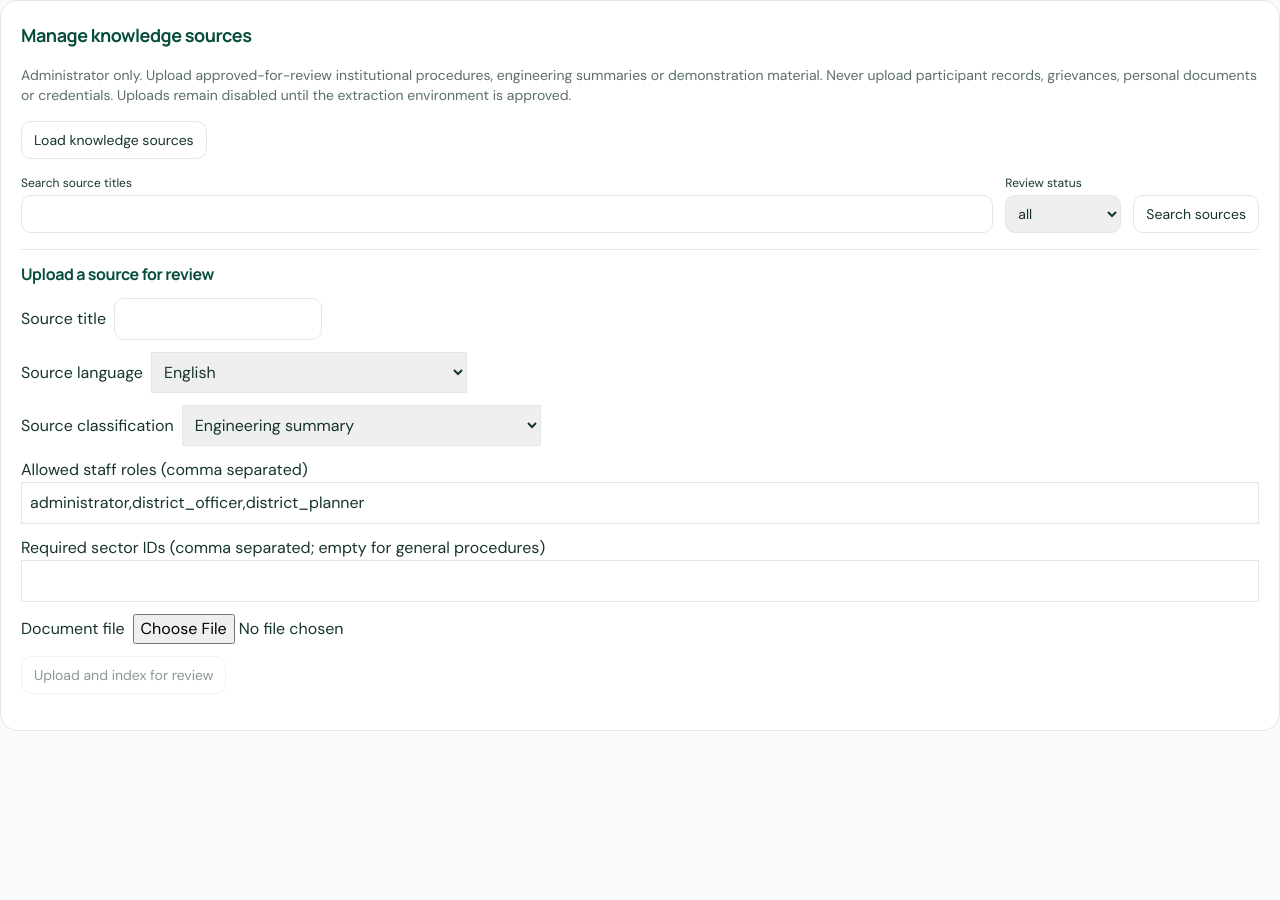
Scenario: searches source versions and recovers a failed index while uploads stay disabled
In the field labelled "Search source titles": {"x": 507, "y": 214} [21,195,993,233], type "Pump %"
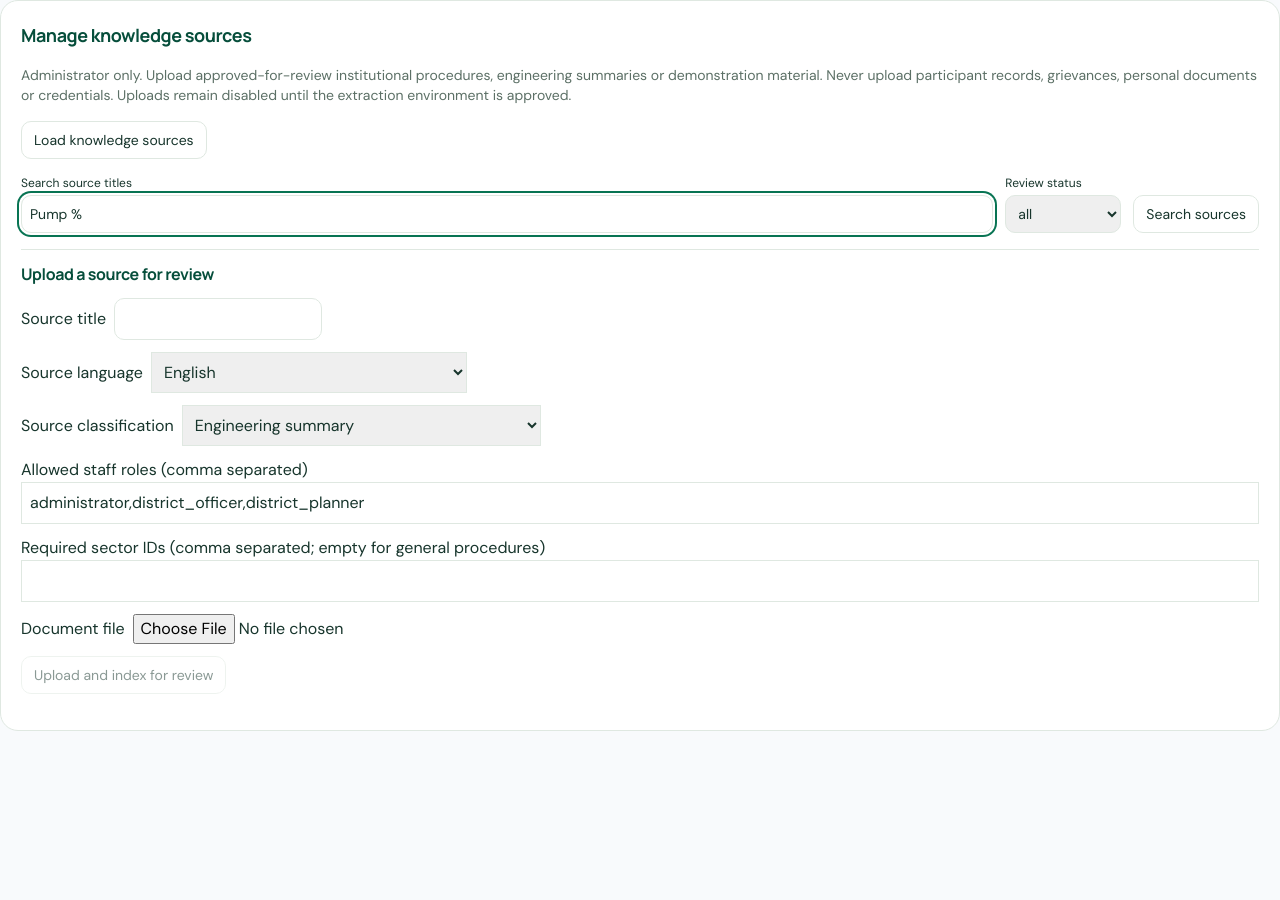
Select "pending" in the dropdown labelled "Review status": {"x": 1063, "y": 214} [1005,195,1121,233]
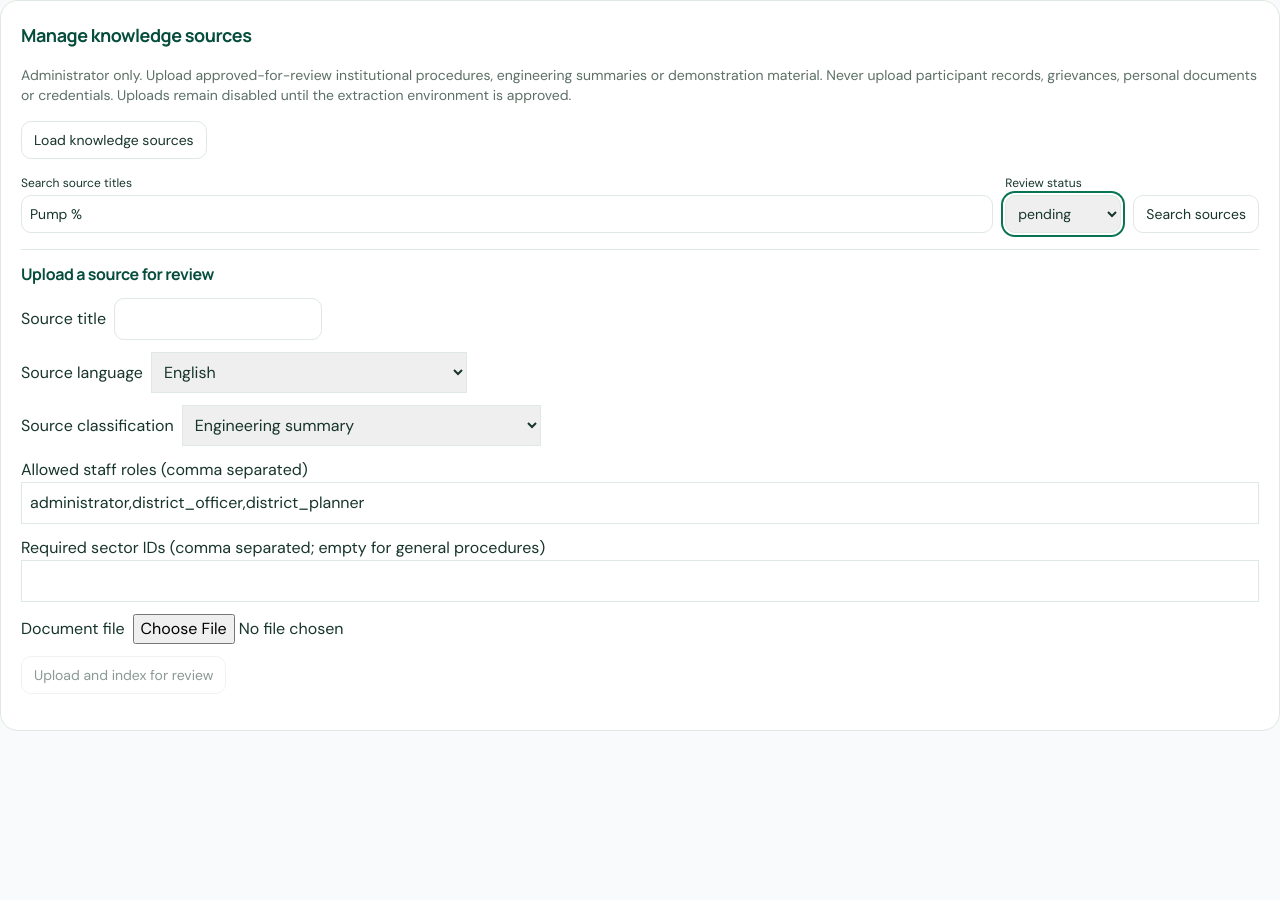
Click the button "Search sources": {"x": 1196, "y": 214} [1133,195,1259,233]
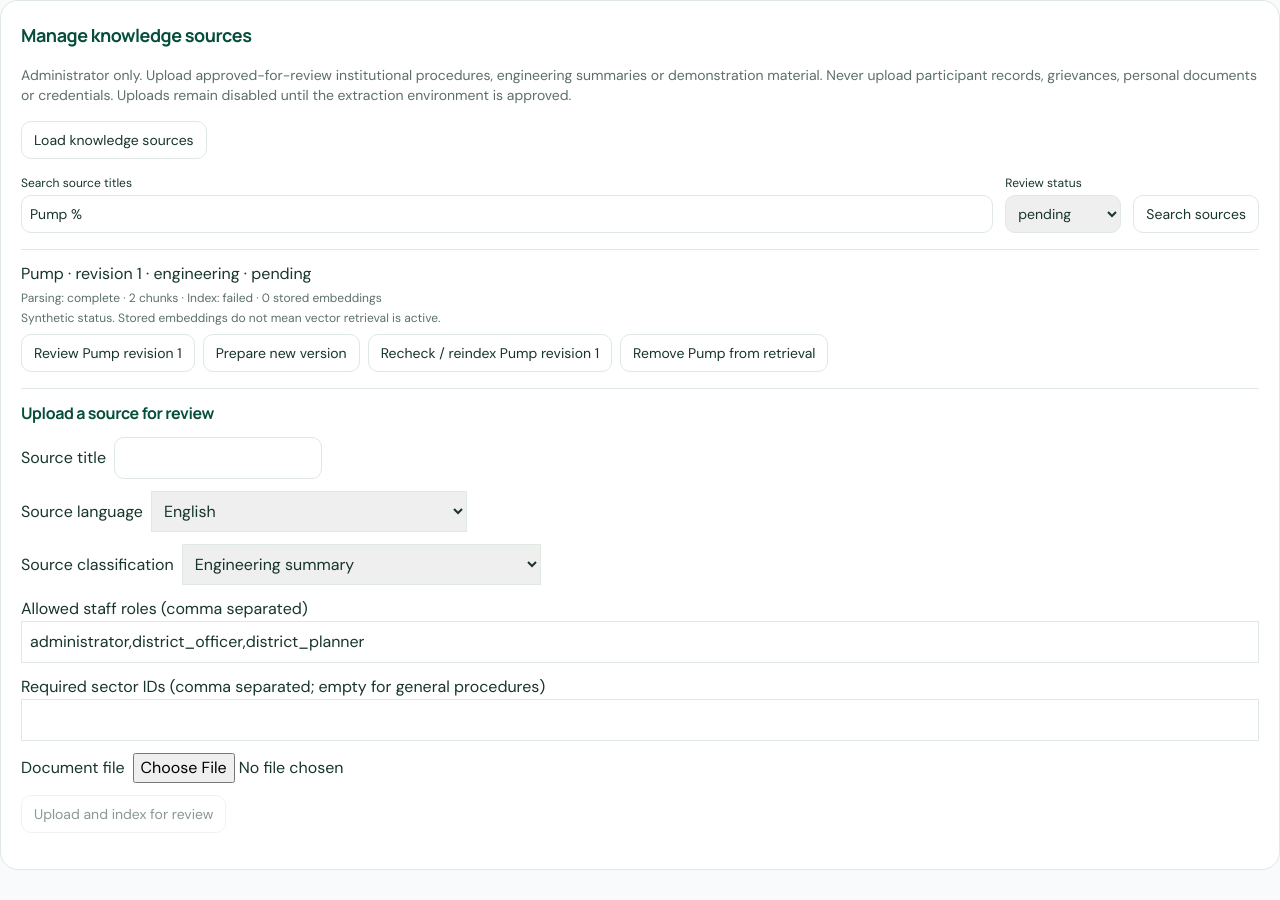
Now the text "Index: failed" is shown, box [21,290,382,306]
Click the button "Recheck / reindex Pump revision 1": {"x": 490, "y": 353} [368,334,612,372]
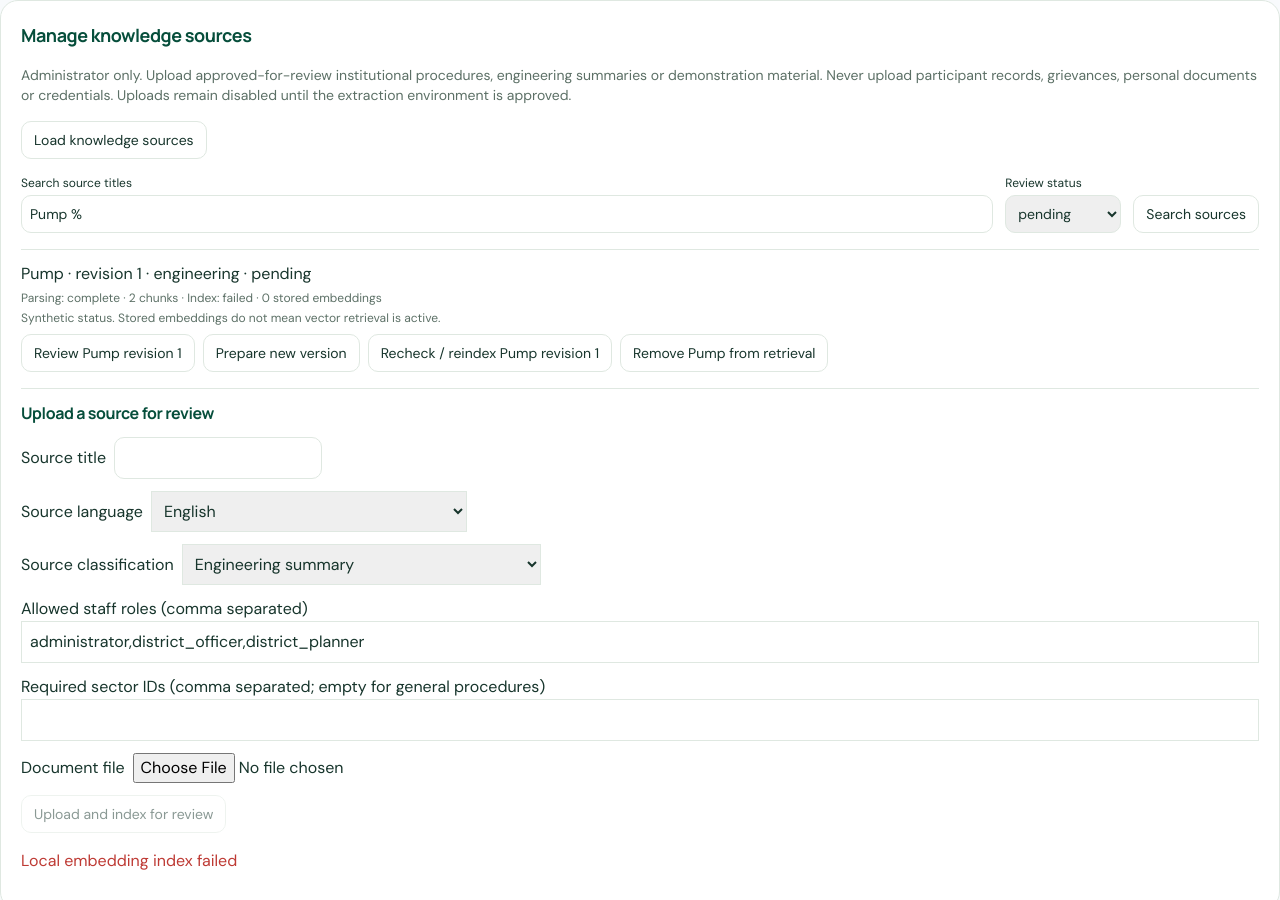
Now the message reads "Local embedding index failed", box [21,850,237,871]
Click the button "Recheck / reindex Pump revision 1": {"x": 490, "y": 353} [368,334,612,372]
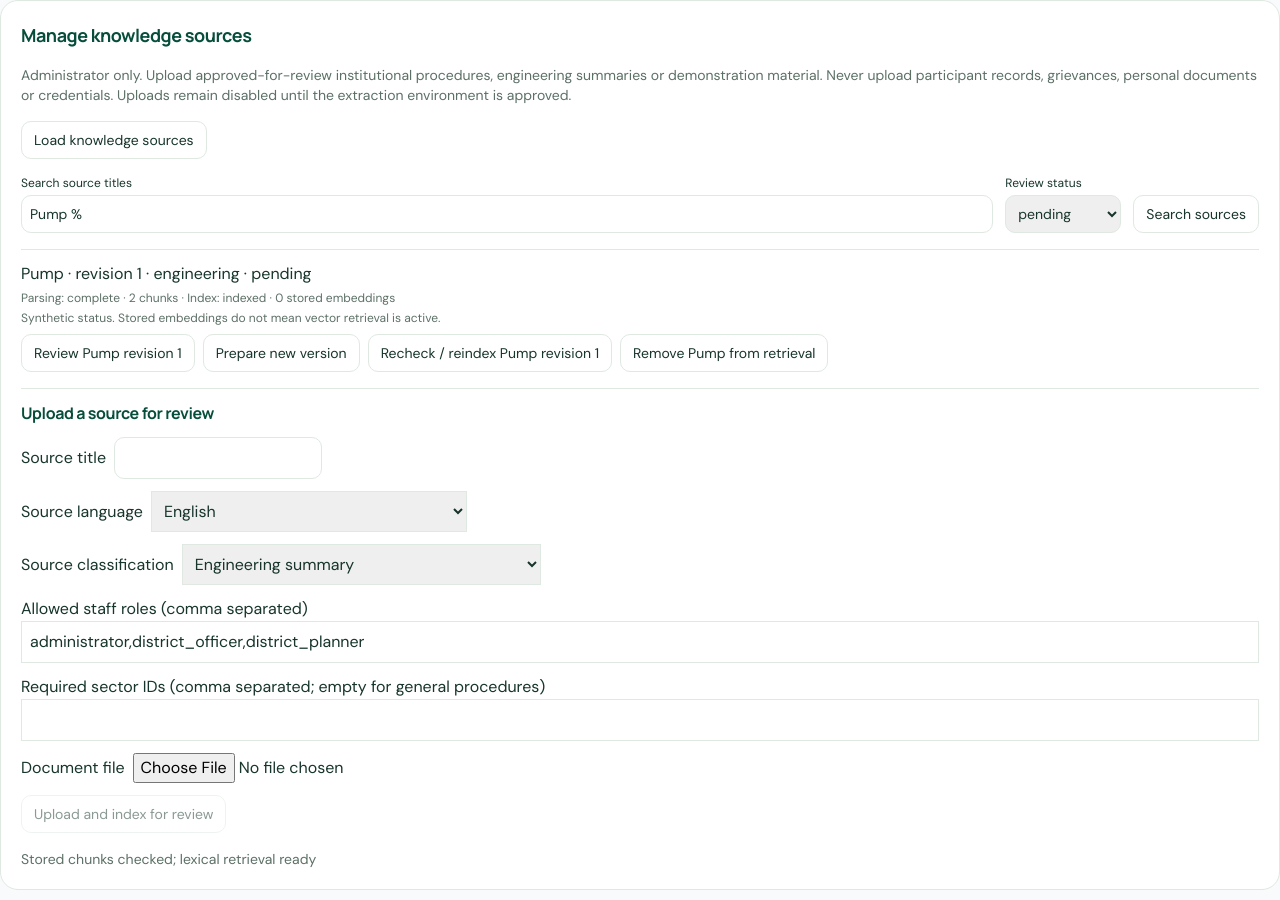
Expected: the button "Upload and index for review" is disabled, [21,795,226,833]
Now the text "Index: indexed" is shown, box [21,290,395,306]
